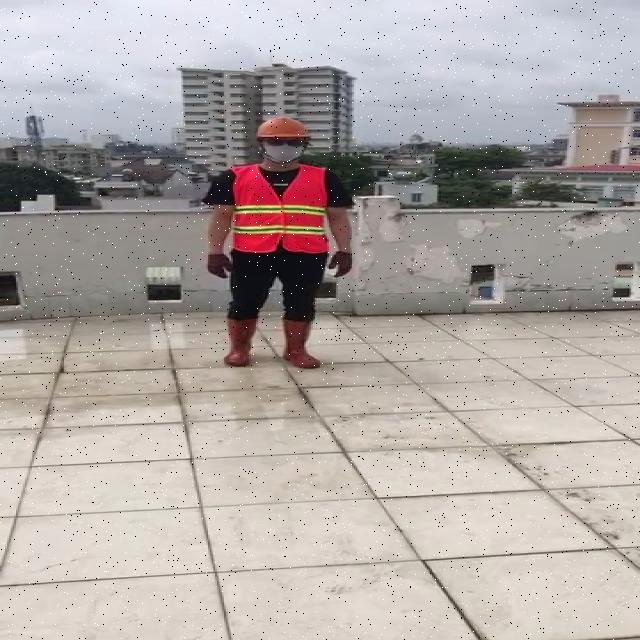Hard_hat: (254, 114, 315, 148)
Person: (201, 110, 363, 380)
Vest: (229, 162, 332, 255)
